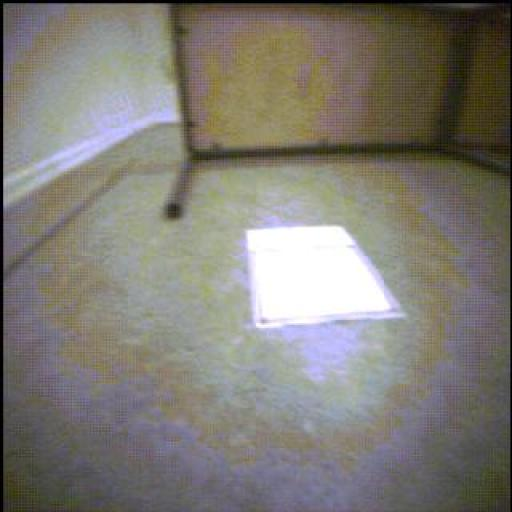Pad: (245, 228, 405, 328)
